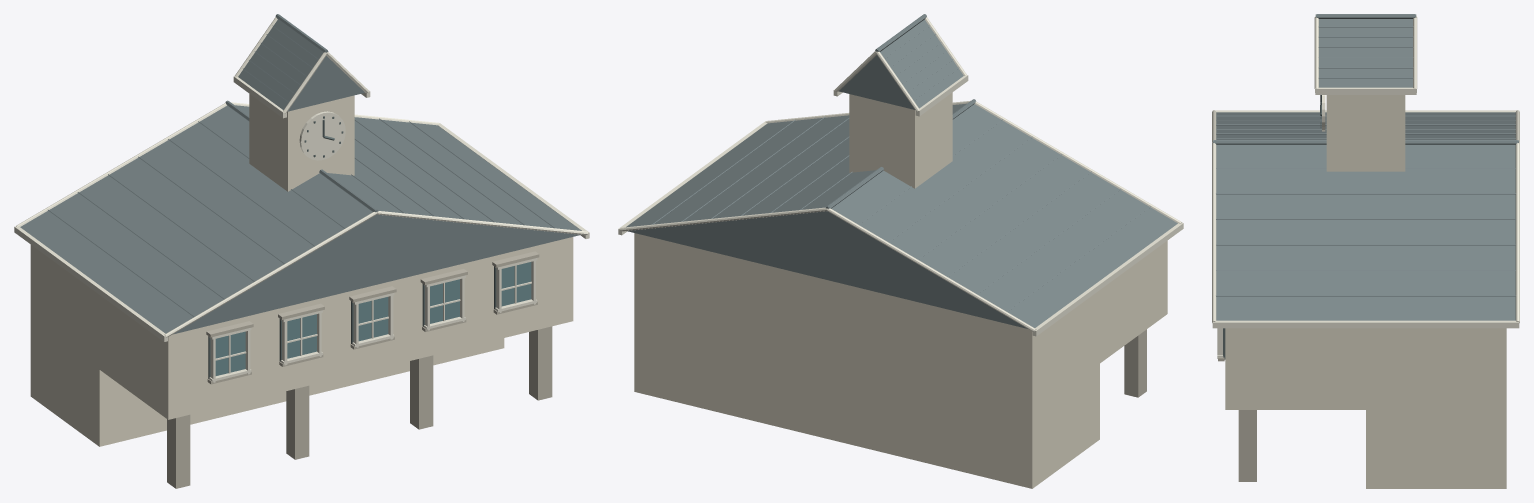
3 views of the same model, side by side, from view 1: azimuth 30°, elevation 25°; view 2: azimuth 150°, elevation 25°; view 3: azimuth 270°, elevation 25° (orthographic). The views are drawn at different scales.
Size of the model in its own units: 17.86 by 14.66 by 10.95.
